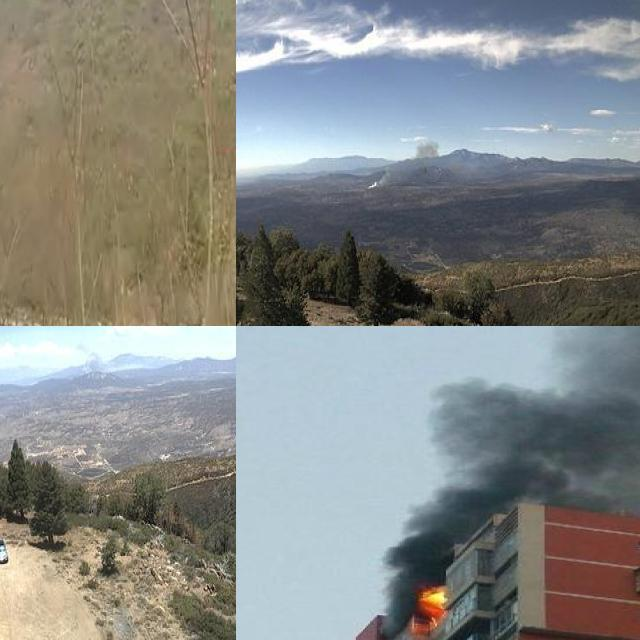fire: (412, 581, 451, 628)
smoke: (382, 326, 640, 576), (361, 134, 442, 193), (71, 337, 111, 380)
